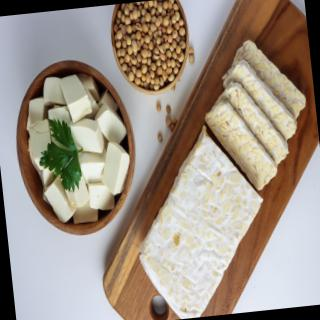Tempe: (204, 94, 281, 196), (231, 34, 309, 126), (223, 77, 291, 172)
